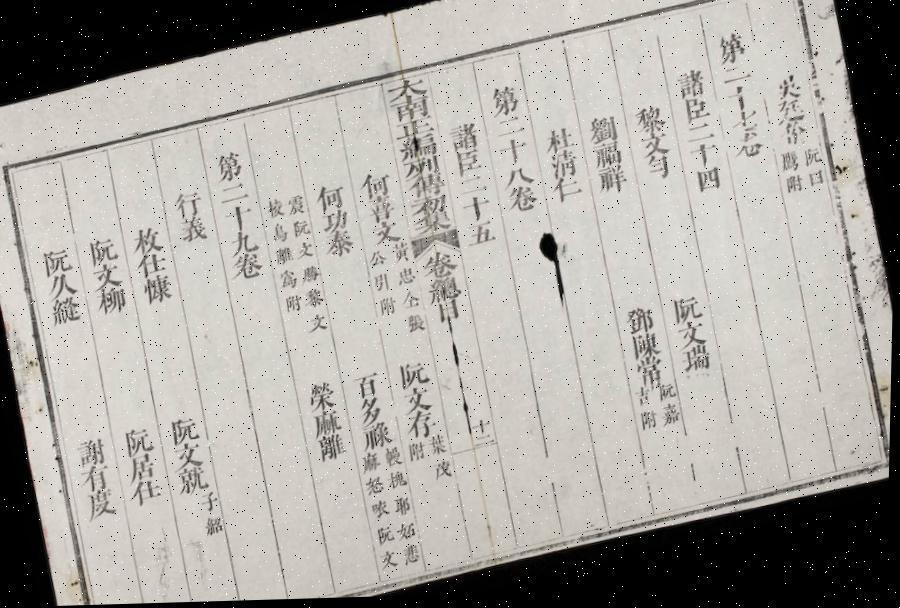c: (394, 132, 440, 166), (485, 82, 524, 122), (382, 75, 432, 106), (711, 31, 750, 70), (120, 421, 160, 459), (72, 432, 112, 470), (210, 148, 249, 186), (730, 127, 768, 166), (82, 486, 122, 522), (138, 271, 178, 307), (420, 249, 461, 284), (388, 96, 435, 126), (129, 221, 167, 258), (304, 379, 342, 416), (444, 121, 484, 156), (46, 293, 86, 328), (356, 169, 396, 204), (678, 345, 718, 380), (632, 356, 670, 392), (672, 68, 710, 104), (622, 306, 660, 342), (669, 294, 707, 330), (93, 283, 132, 318), (593, 166, 632, 201), (630, 105, 669, 140), (76, 460, 116, 494), (174, 464, 214, 498), (38, 243, 76, 278), (584, 115, 622, 150), (312, 180, 350, 215), (404, 409, 442, 444), (458, 194, 497, 228), (540, 125, 579, 159), (406, 172, 448, 203), (170, 186, 207, 221), (84, 232, 121, 267), (167, 412, 204, 447), (175, 213, 213, 247), (396, 358, 434, 392), (129, 476, 168, 509), (170, 440, 209, 473), (424, 276, 464, 308), (408, 194, 452, 223), (400, 155, 445, 183), (125, 450, 162, 484), (546, 150, 583, 184), (628, 332, 665, 366), (495, 136, 532, 170), (359, 421, 397, 454), (504, 185, 542, 218), (412, 212, 456, 240), (316, 432, 352, 466), (451, 149, 488, 182), (220, 202, 258, 234), (89, 260, 127, 292), (674, 322, 712, 354), (392, 118, 438, 144), (770, 75, 806, 108), (310, 408, 346, 441), (678, 97, 714, 130), (322, 229, 359, 261), (400, 386, 437, 418), (363, 195, 400, 227), (549, 176, 586, 208), (350, 370, 386, 402), (637, 132, 673, 164), (590, 142, 626, 174), (464, 220, 500, 252), (686, 142, 722, 174), (692, 167, 726, 200), (642, 154, 677, 186), (723, 84, 758, 116), (354, 396, 389, 428), (44, 270, 80, 301), (773, 100, 809, 131), (226, 227, 262, 258), (230, 251, 266, 282), (368, 220, 405, 250), (500, 164, 537, 194), (133, 250, 170, 280), (777, 122, 813, 152), (492, 115, 528, 143), (216, 180, 252, 208), (434, 301, 467, 331), (320, 208, 354, 236), (455, 174, 491, 200), (683, 123, 718, 149), (719, 65, 753, 91), (728, 110, 762, 136), (360, 450, 386, 477), (431, 459, 457, 486), (779, 152, 804, 180), (202, 514, 228, 540), (305, 312, 332, 337), (278, 266, 302, 294), (285, 192, 309, 220), (660, 404, 684, 432), (404, 312, 429, 338), (378, 547, 403, 573), (364, 473, 390, 498), (390, 241, 414, 268), (639, 410, 663, 437), (198, 489, 222, 516), (303, 286, 327, 312), (377, 296, 401, 322), (394, 266, 420, 290), (400, 289, 424, 315), (264, 196, 288, 222), (400, 542, 424, 568), (801, 148, 825, 174), (370, 497, 394, 522), (656, 383, 680, 408), (634, 387, 658, 412), (375, 523, 398, 549), (428, 433, 450, 460), (282, 292, 306, 316), (783, 176, 807, 200), (274, 244, 298, 268), (291, 217, 314, 242), (270, 220, 292, 246), (384, 445, 406, 471), (368, 248, 391, 272), (397, 520, 420, 544), (393, 494, 415, 519), (408, 440, 430, 465), (372, 272, 394, 296), (300, 264, 322, 288), (295, 240, 317, 263), (806, 171, 828, 194), (388, 469, 410, 492), (471, 418, 495, 439), (475, 432, 496, 449)
